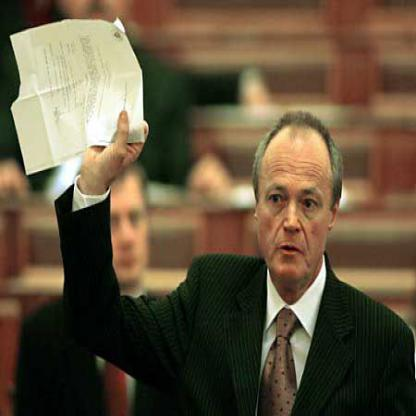face: (257, 119, 333, 286), (91, 163, 152, 293)
